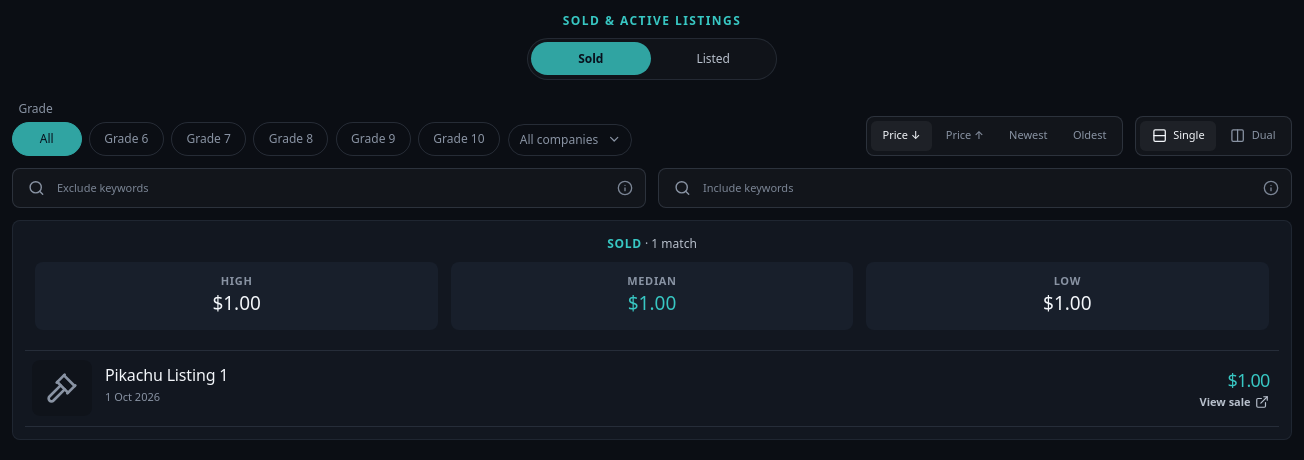
Test: expands and collapses an overflowing listing title
This screenshot has width=1304, height=460.
Click the button named "Expand listing title": (640, 385) [105,365,1176,405]
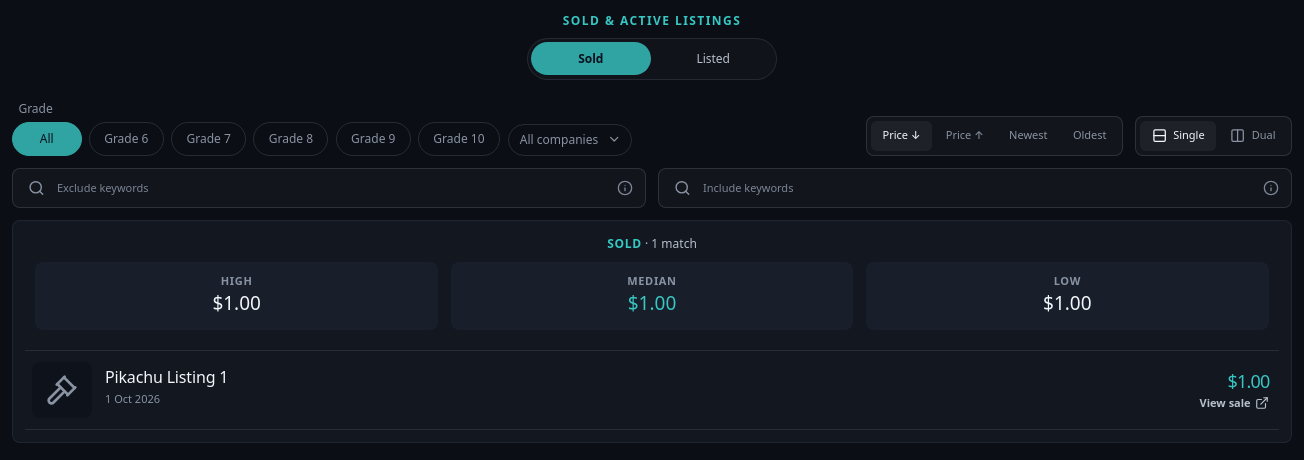
Now the button named "Expand listing title" is expanded
Click the button named "Expand listing title": (640, 387) [105,367,1176,407]
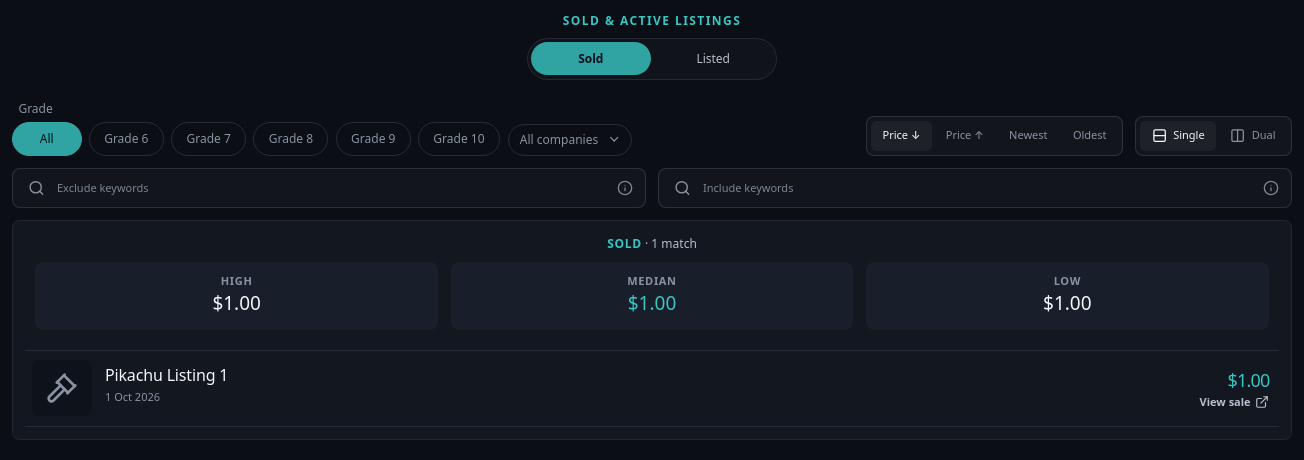
Now the button named "Expand listing title" is collapsed, box [105,365,1176,405]
